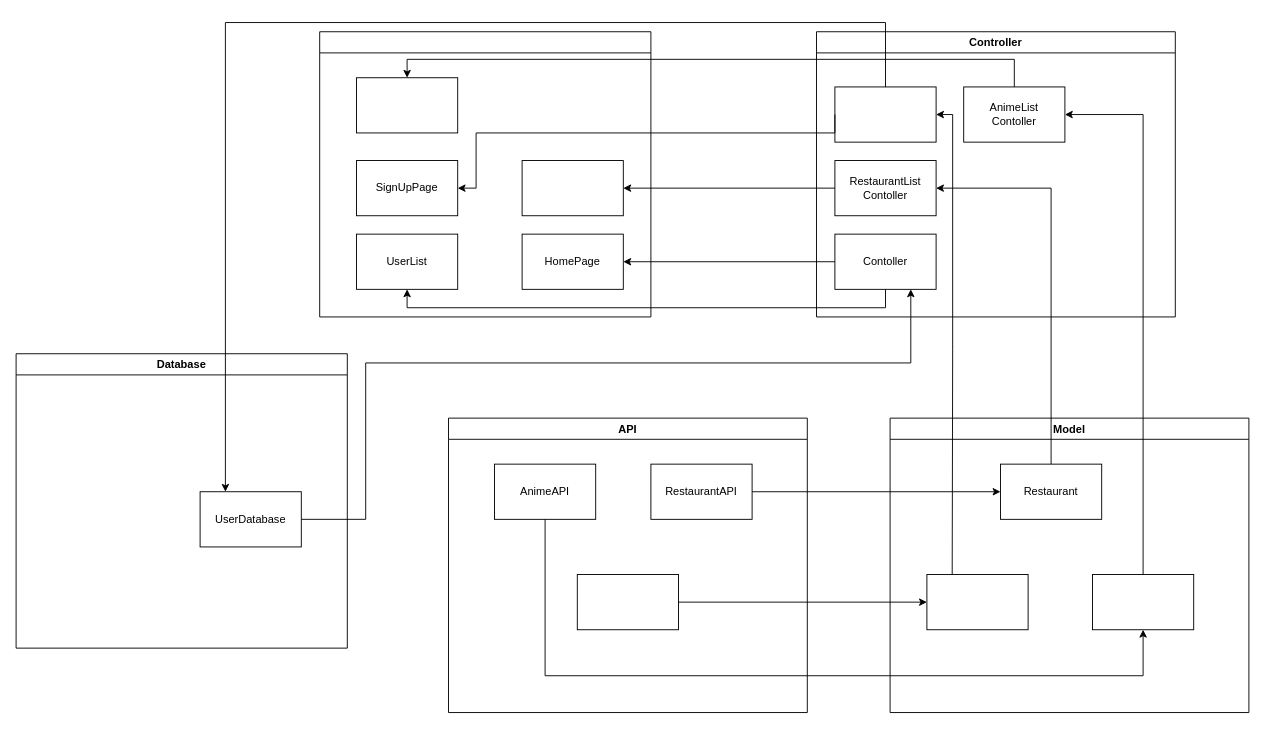
Some shapes in this 1265 by 729 pixel diagram are drawn without their labels. The box of each missing label's shape, as (x1, y1, x2, y2) in pixels:
AnimeList: (356, 77, 458, 133)
AnimeManga: (1092, 574, 1194, 630)
City: (926, 574, 1028, 630)
GeoAPI: (576, 574, 678, 630)
RestaurantList: (521, 160, 623, 216)
SignUpContoller: (834, 86, 936, 142)
View: (319, 31, 651, 317)
